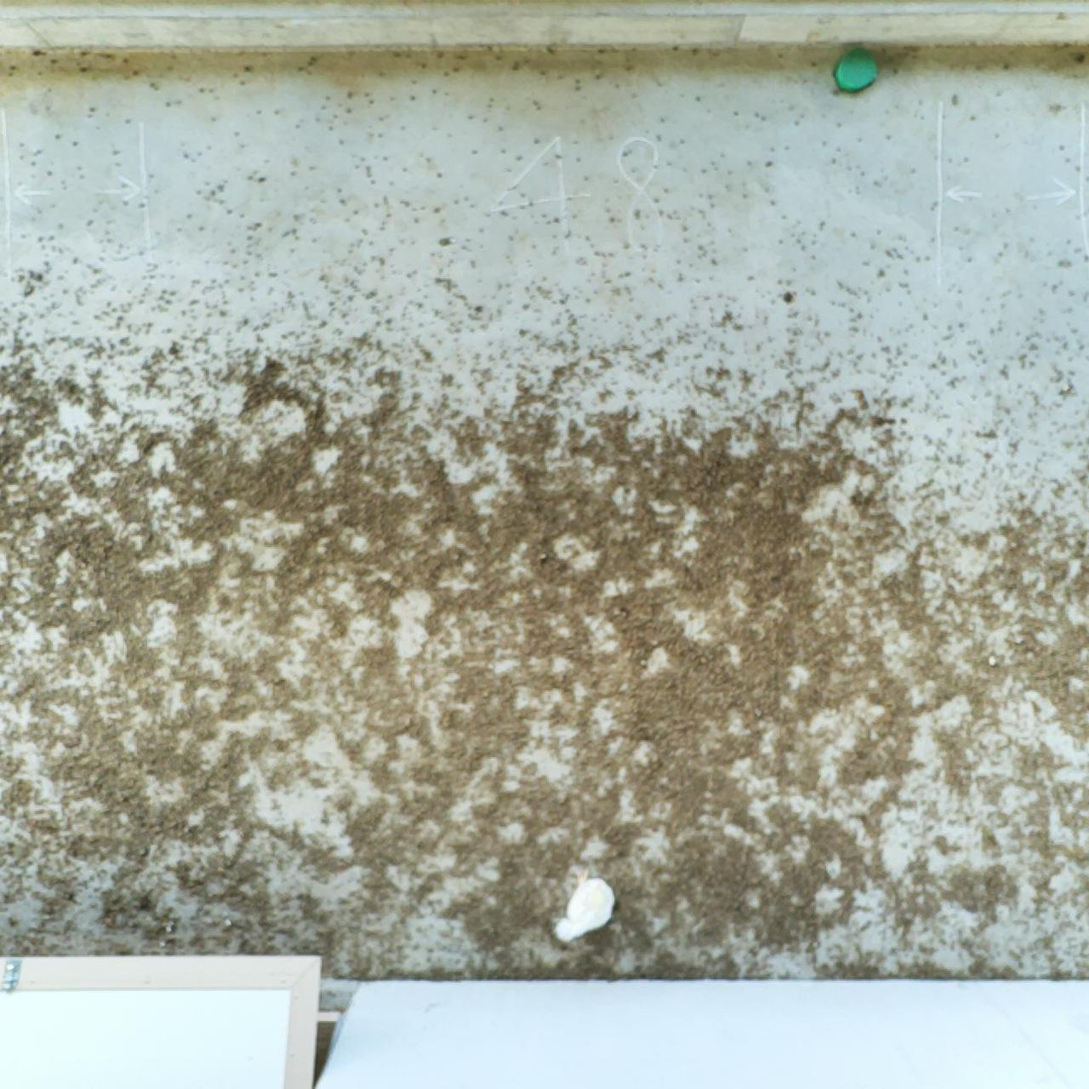chicken: (548, 866, 617, 947)
